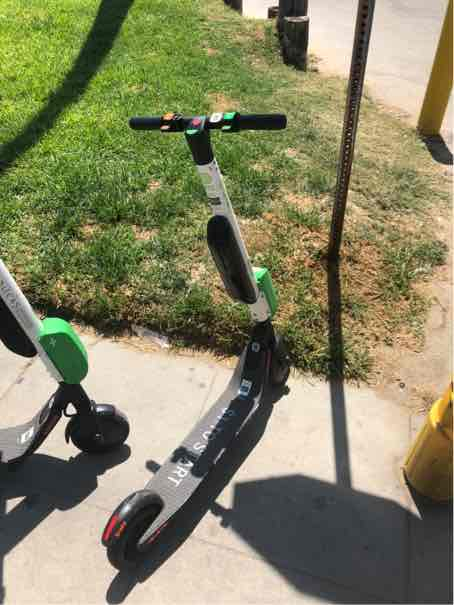scooter: (92, 97, 310, 582)
